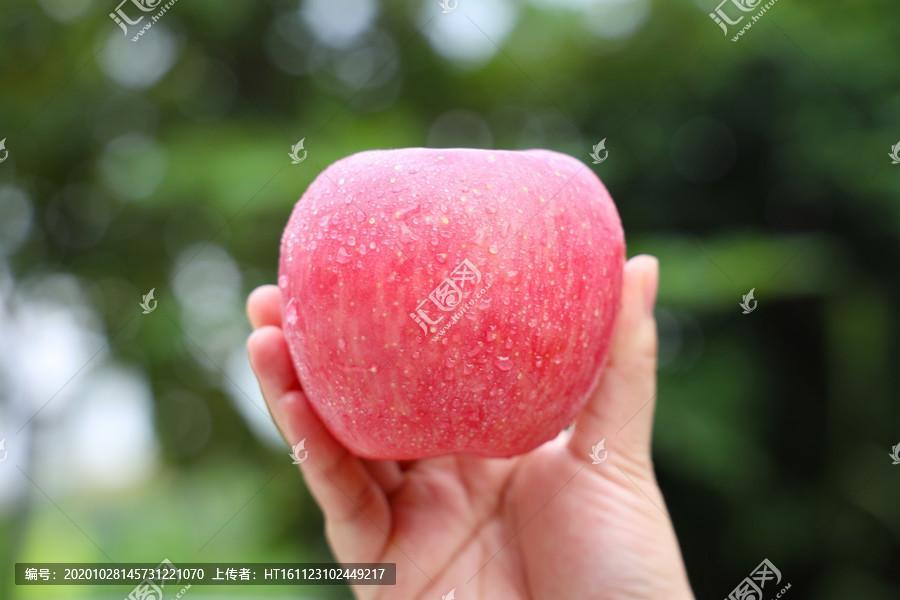apple: (267, 145, 621, 452)
